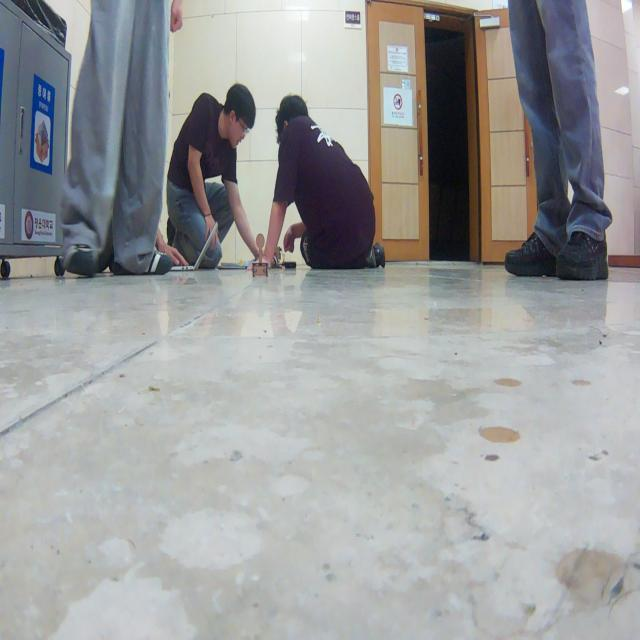target: (252, 234, 268, 278)
